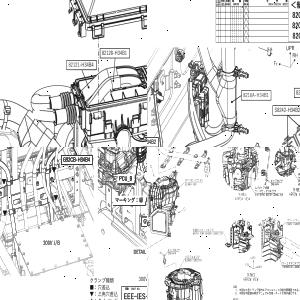PartNumber: (242, 92, 269, 99), (62, 157, 91, 163), (68, 62, 94, 68), (274, 106, 300, 112), (102, 50, 127, 56), (147, 138, 157, 145), (295, 88, 300, 96)
